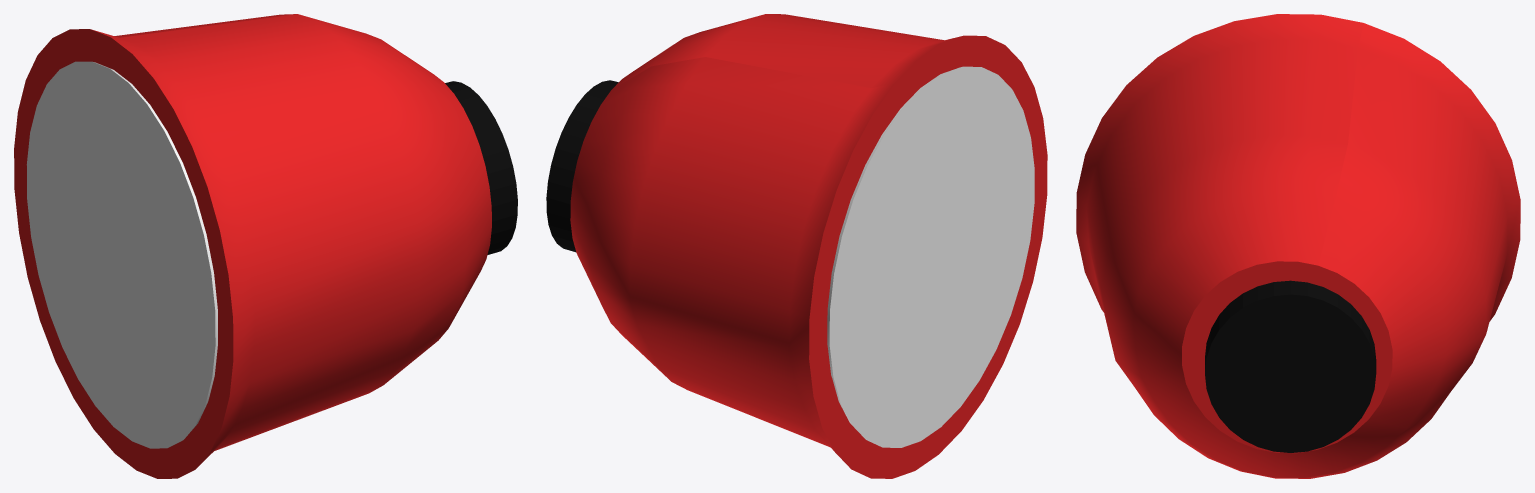
File: red lamp.glb
3 views of the same model, side by side, from view 1: azimuth 30°, elevation 25°; view 2: azimuth 150°, elevation 25°; view 3: azimuth 270°, elevation 25° (orthographic). The views are drawn at different scales.
Visible parts, largest first — view 1: Silinder, Silinder.002, Silinder.001; view 2: Silinder, Silinder.002, Silinder.001; view 3: Silinder, Silinder.001.
Part boxes in pixels (x1,y1,x2,y2): Silinder: (14,14,491,478); Silinder.002: (26,61,217,448); Silinder.001: (445,81,517,254); Silinder: (570,14,1047,478); Silinder.002: (827,66,1034,447); Silinder.001: (546,80,618,252); Silinder: (1076,14,1520,478); Silinder.001: (1205,280,1376,452).
Bounding box in the file's own units: 1.71 × 1.91 × 1.91.
